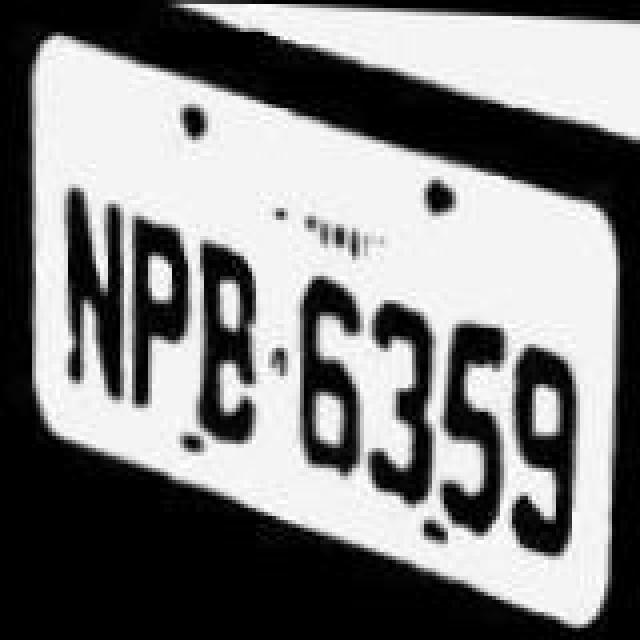3: (356, 282, 440, 514)
5: (434, 256, 514, 536)
6: (282, 254, 362, 490)
9: (504, 296, 584, 572)
B: (190, 224, 274, 444)
N: (54, 148, 134, 416)
P: (116, 160, 196, 424)
